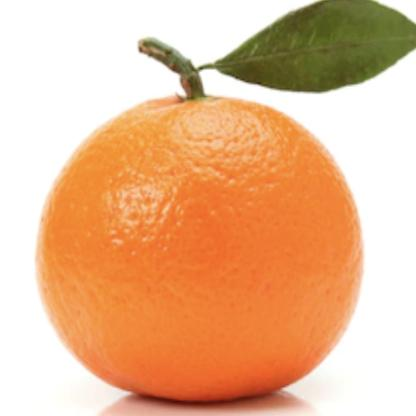fresh: (39, 94, 363, 401)
